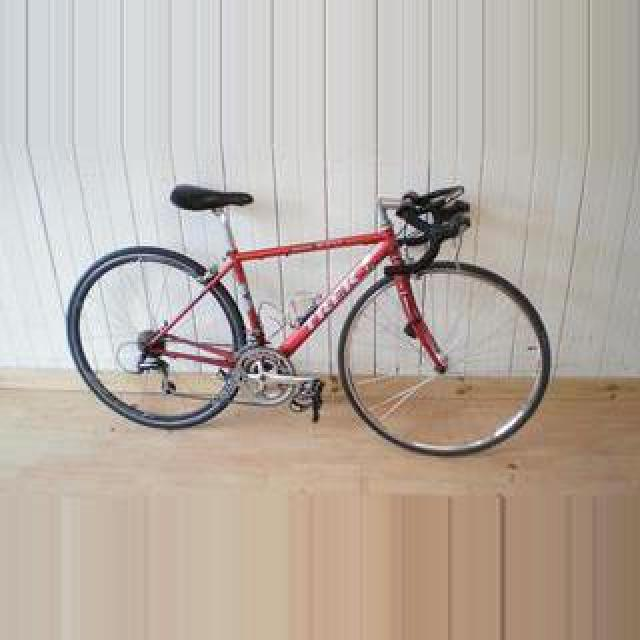Person: (64, 170, 560, 460)
